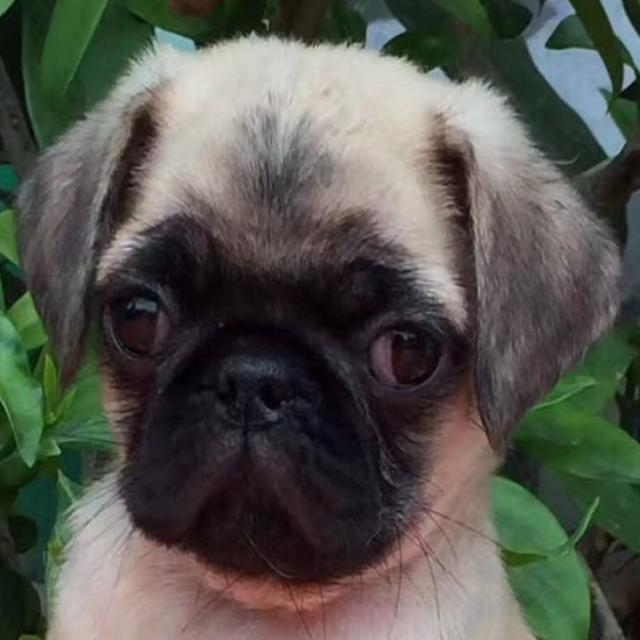eye: (360, 315, 446, 399), (101, 280, 180, 368)
